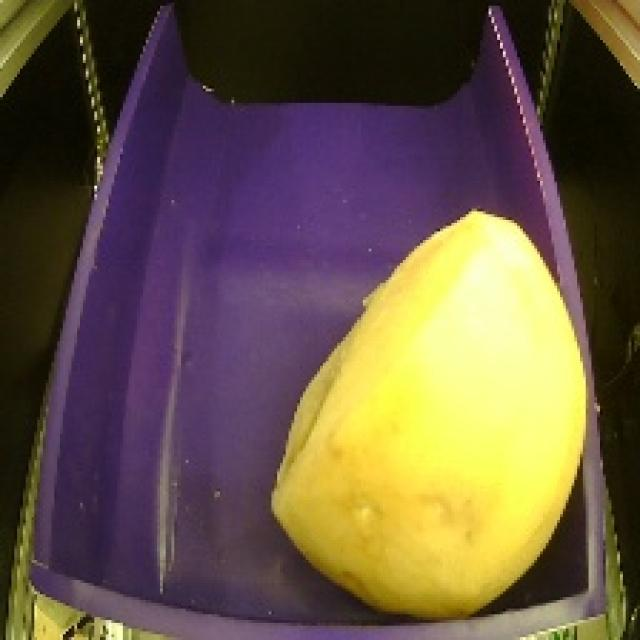full_potato: (251, 193, 596, 632)
